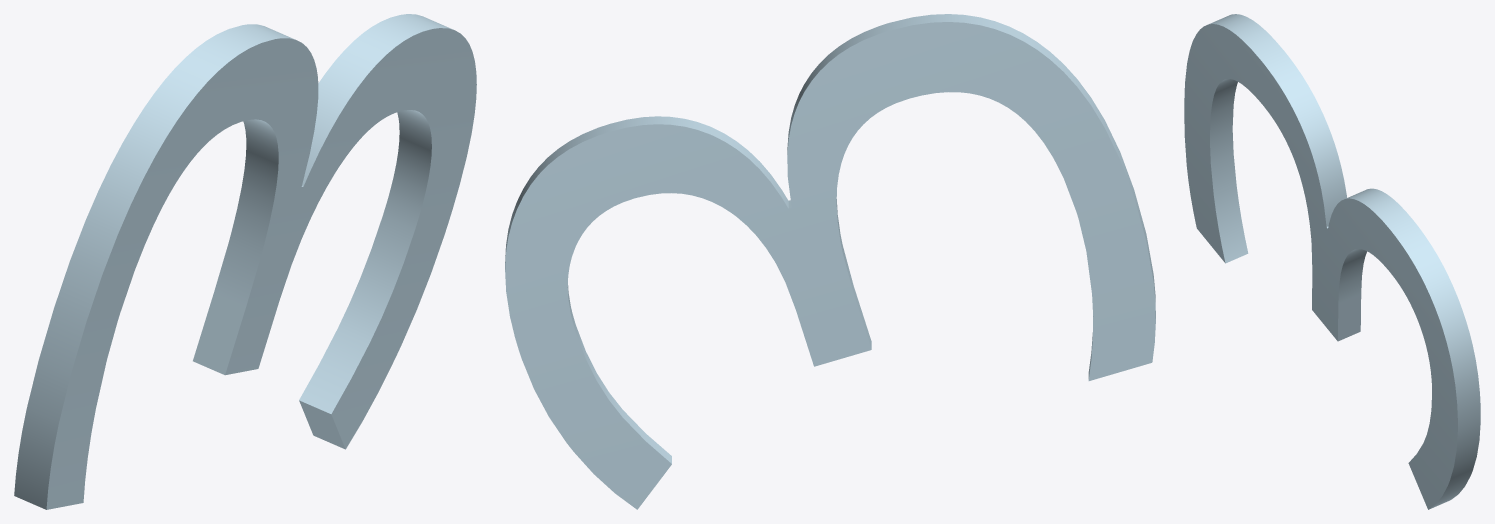
The model's file is Number_3.gltf.
3 renders of one model, left to right at view 1: azimuth 30°, elevation 25°; view 2: azimuth 150°, elevation 25°; view 3: azimuth 270°, elevation 25°, orthographic. The views are drawn at different scales.
Visible parts, largest first — view 1: Sub_9_Cell_1_1_Number_3; view 2: Sub_9_Cell_1_1_Number_3; view 3: Sub_9_Cell_1_1_Number_3.
Part boxes in pixels (x1=…): Sub_9_Cell_1_1_Number_3: x1=14, y1=14, x2=476, y2=509; Sub_9_Cell_1_1_Number_3: x1=505, y1=14, x2=1155, y2=509; Sub_9_Cell_1_1_Number_3: x1=1184, y1=14, x2=1480, y2=509.
Bounding box in the file's own units: 0.0241 × 0.0207 × 0.014.
